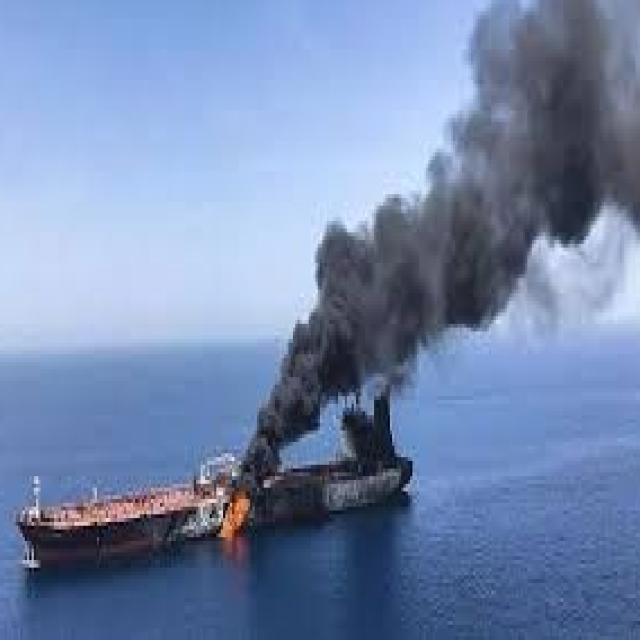cargoship: (16, 376, 417, 572)
